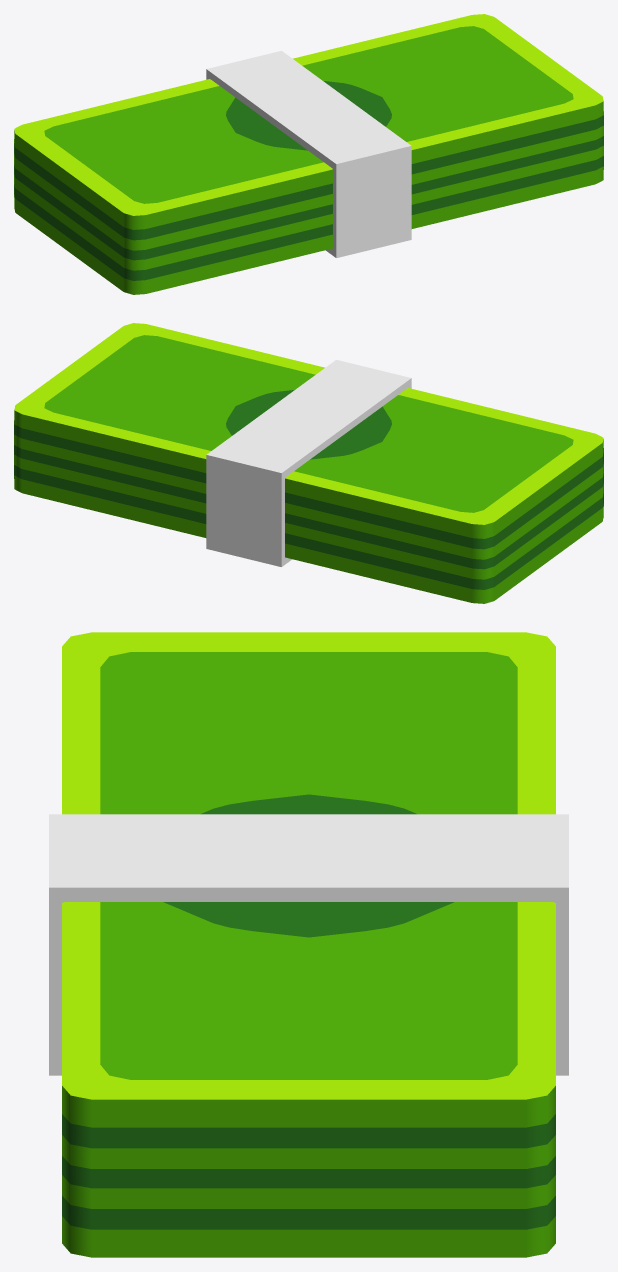
The model's file is Cash_01.fbx.
3 renders of one model, top to bottom at view 1: azimuth 30°, elevation 25°; view 2: azimuth 150°, elevation 25°; view 3: azimuth 270°, elevation 25°, orthographic. The views are drawn at different scales.
Visible parts, largest first — view 1: Cash_01; view 2: Cash_01; view 3: Cash_01.
Boxes of the visible parts, x1,y1,x2,y2 form: Cash_01: (14, 14, 603, 294); Cash_01: (14, 323, 603, 603); Cash_01: (49, 632, 568, 1257).
Bounding box in the file's own units: 14.11 × 2.65 × 6.63.
